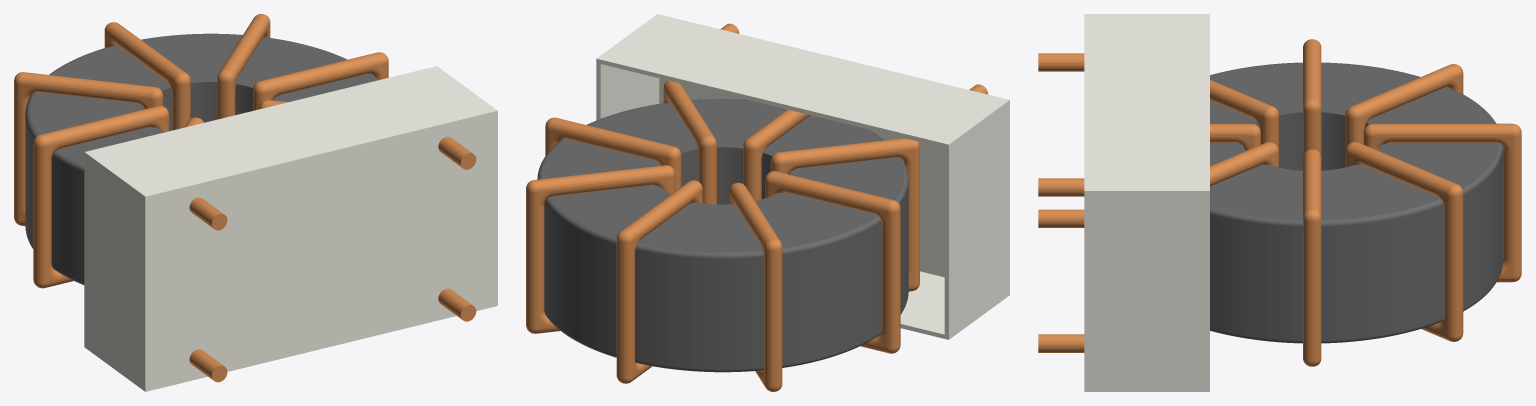
File: L_CommonMode_Toroid_Vertical_L43.2mm_W22.9mm_Px17.78mm_Py30.48mm_Bourns_8100.glb
3 renders of one model, left to right at view 1: azimuth 30°, elevation 25°; view 2: azimuth 150°, elevation 25°; view 3: azimuth 270°, elevation 25°, orthographic. The views are drawn at different scales.
Parts seen in each view (by area): view 1: Shape_IndexedFaceSet.442, Shape_IndexedFaceSet.454, Shape_IndexedFaceSet.456, Shape_IndexedFaceSet.443, Shape_IndexedFaceSet.055, Shape_IndexedFaceSet.181, Shape_IndexedFaceSet.047, Shape_IndexedFaceSet.277, Shape_IndexedFaceSet.114, Shape_IndexedFaceSet.034, Shape_IndexedFaceSet.113, Shape_IndexedFaceSet.407 (+23 smaller); view 2: Shape_IndexedFaceSet.454, Shape_IndexedFaceSet.069, Shape_IndexedFaceSet.456, Shape_IndexedFaceSet.044, Shape_IndexedFaceSet.088, Shape_IndexedFaceSet.114, Shape_IndexedFaceSet.463, Shape_IndexedFaceSet.047, Shape_IndexedFaceSet.181, Shape_IndexedFaceSet.458, Shape_IndexedFaceSet.058, Shape_IndexedFaceSet.235 (+41 smaller); view 3: Shape_IndexedFaceSet.455, Shape_IndexedFaceSet.454, Shape_IndexedFaceSet.122, Shape_IndexedFaceSet.159, Shape_IndexedFaceSet.088, Shape_IndexedFaceSet.277, Shape_IndexedFaceSet.333, Shape_IndexedFaceSet.181, Shape_IndexedFaceSet.047, Shape_IndexedFaceSet.058, Shape_IndexedFaceSet.114, Shape_IndexedFaceSet.369 (+32 smaller).
Part boxes in pixels (bbox=[...]): Shape_IndexedFaceSet.442: bbox=[149, 116, 493, 386]; Shape_IndexedFaceSet.454: bbox=[85, 66, 494, 194]; Shape_IndexedFaceSet.456: bbox=[84, 152, 142, 389]; Shape_IndexedFaceSet.443: bbox=[145, 111, 497, 391]; Shape_IndexedFaceSet.055: bbox=[51, 156, 84, 282]; Shape_IndexedFaceSet.181: bbox=[141, 34, 242, 83]; Shape_IndexedFaceSet.047: bbox=[30, 92, 143, 134]; Shape_IndexedFaceSet.277: bbox=[236, 37, 345, 87]; Shape_IndexedFaceSet.114: bbox=[51, 45, 170, 90]; Shape_IndexedFaceSet.034: bbox=[35, 145, 46, 283]; Shape_IndexedFaceSet.113: bbox=[20, 73, 154, 99]; Shape_IndexedFaceSet.407: bbox=[262, 53, 384, 92]; Shape_IndexedFaceSet.454: bbox=[597, 15, 1006, 144]; Shape_IndexedFaceSet.069: bbox=[635, 249, 764, 369]; Shape_IndexedFaceSet.456: bbox=[949, 102, 1007, 339]; Shape_IndexedFaceSet.044: bbox=[782, 221, 882, 365]; Shape_IndexedFaceSet.088: bbox=[544, 202, 616, 355]; Shape_IndexedFaceSet.114: bbox=[638, 202, 762, 252]; Shape_IndexedFaceSet.463: bbox=[659, 78, 944, 277]; Shape_IndexedFaceSet.047: bbox=[755, 192, 876, 247]; Shape_IndexedFaceSet.181: bbox=[549, 185, 670, 237]; Shape_IndexedFaceSet.458: bbox=[596, 58, 948, 339]; Shape_IndexedFaceSet.058: bbox=[790, 157, 903, 199]; Shape_IndexedFaceSet.235: bbox=[691, 99, 786, 148]; Shape_IndexedFaceSet.455: bbox=[1089, 191, 1209, 391]; Shape_IndexedFaceSet.454: bbox=[1089, 14, 1209, 190]; Shape_IndexedFaceSet.122: bbox=[1321, 204, 1444, 340]; Shape_IndexedFaceSet.159: bbox=[1210, 214, 1302, 340]; Shape_IndexedFaceSet.088: bbox=[1463, 148, 1503, 308]; Shape_IndexedFaceSet.277: bbox=[1321, 164, 1439, 219]; Shape_IndexedFaceSet.333: bbox=[1210, 164, 1302, 219]; Shape_IndexedFaceSet.181: bbox=[1378, 142, 1498, 187]; Shape_IndexedFaceSet.047: bbox=[1321, 63, 1419, 115]; Shape_IndexedFaceSet.058: bbox=[1210, 63, 1302, 115]; Shape_IndexedFaceSet.114: bbox=[1367, 87, 1492, 124]; Shape_IndexedFaceSet.369: bbox=[1447, 195, 1459, 336].
Bounding box in the file's own units: 17 × 9 × 19.62.
